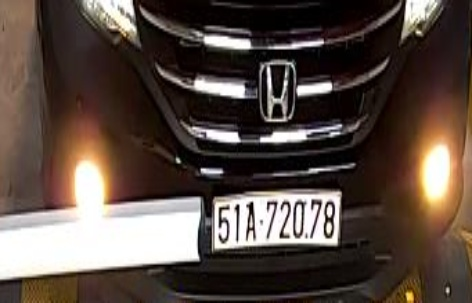plate: (208, 185, 350, 251)
